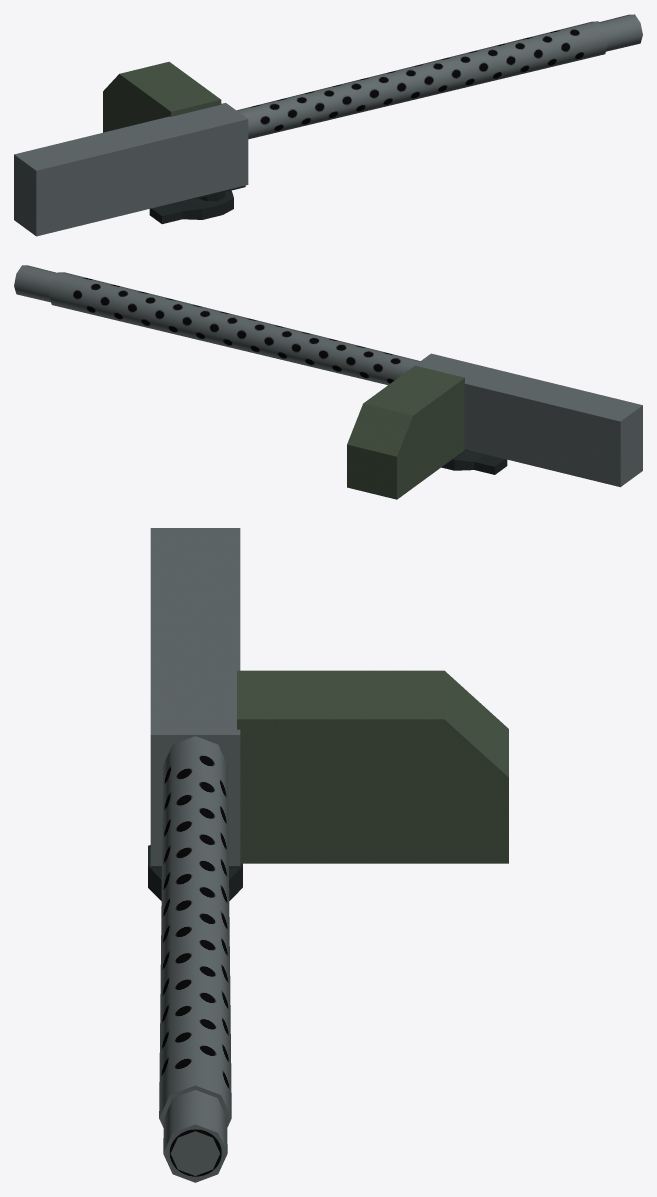
The model's file is Machine_Gun.FBX.
3 renders of one model, top to bottom at view 1: azimuth 30°, elevation 25°; view 2: azimuth 150°, elevation 25°; view 3: azimuth 270°, elevation 25°, orthographic. The views are drawn at different scales.
Parts seen in each view (by area): view 1: MG_Base001, MG_Barrel_Base001, MG_Ammo Box_Test, MG_Mount; view 2: MG_Base001, MG_Barrel_Base001, MG_Ammo Box_Test, MG_Mount; view 3: MG_Ammo Box_Test, MG_Barrel_Base001, MG_Base001.
Boxes of the visible parts, box(x1,y1,x2,y2) form: MG_Base001: box(14, 103, 248, 236); MG_Barrel_Base001: box(237, 14, 642, 139); MG_Ammo Box_Test: box(103, 61, 221, 132); MG_Mount: box(149, 185, 245, 224); MG_Base001: box(409, 353, 642, 487); MG_Barrel_Base001: box(14, 265, 420, 384); MG_Ammo Box_Test: box(347, 365, 464, 499); MG_Mount: box(441, 449, 507, 474); MG_Ammo Box_Test: box(237, 670, 508, 863); MG_Barrel_Base001: box(159, 736, 231, 1182); MG_Base001: box(150, 528, 240, 866).
Bounding box in the file's own units: 155 × 39.63 × 22.8.
Materials: 4 (3 with a texture image).
